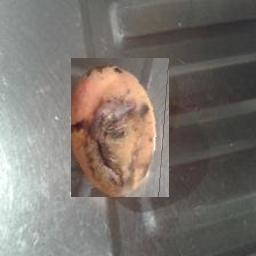Mango Rotten: (72, 59, 170, 198)
